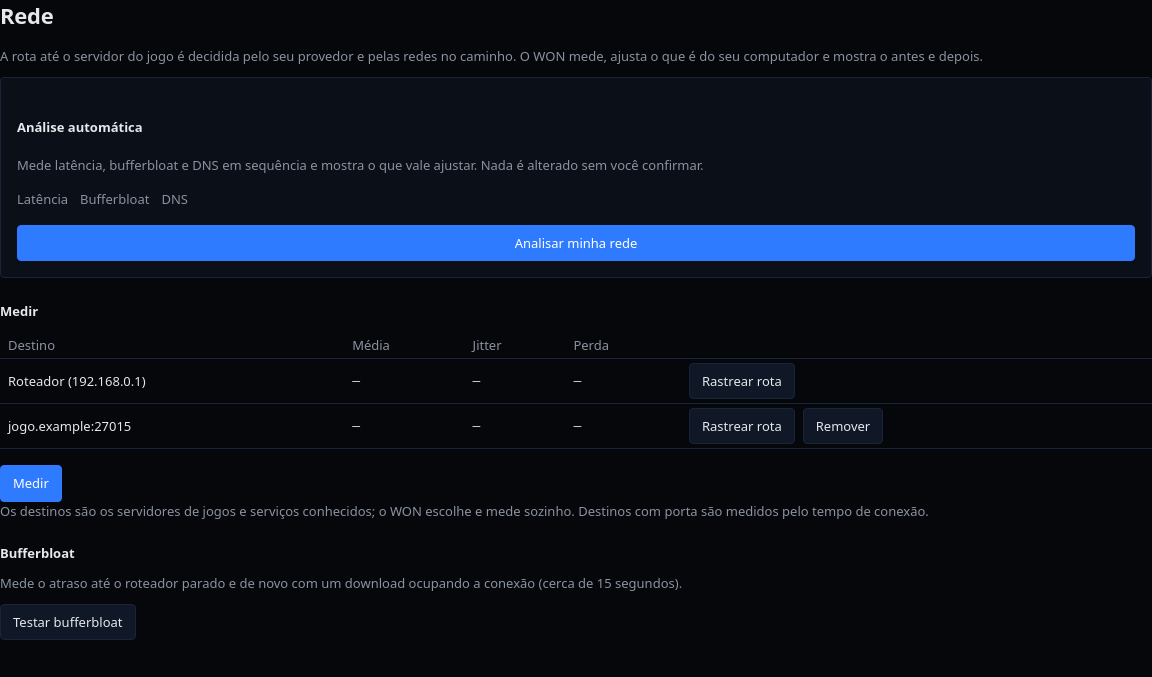
Rede › auto_analysis_chains_latency_bufferbloat_and_dns
What coordinates should you click on to do the following:
click the button "Analisar minha rede"
I would click on:
 (576, 243)
Its box is 17,224 -> 1135,261.
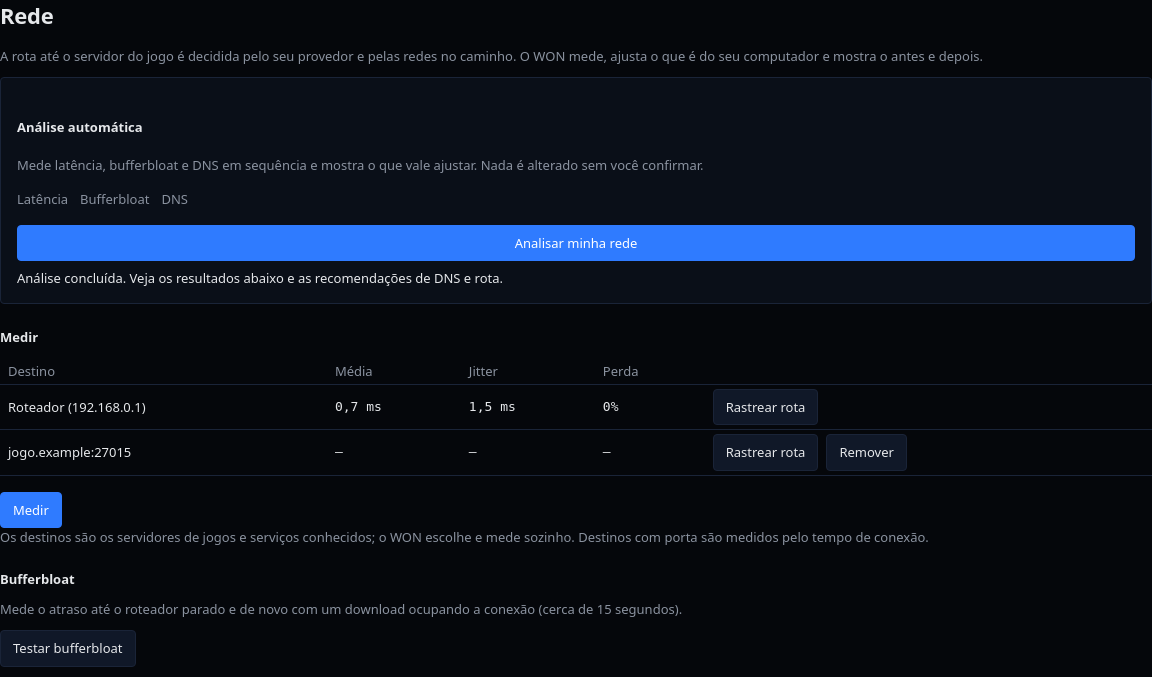
expect the text "Análise concluída" is shown: met, box 17,269 -> 503,287
